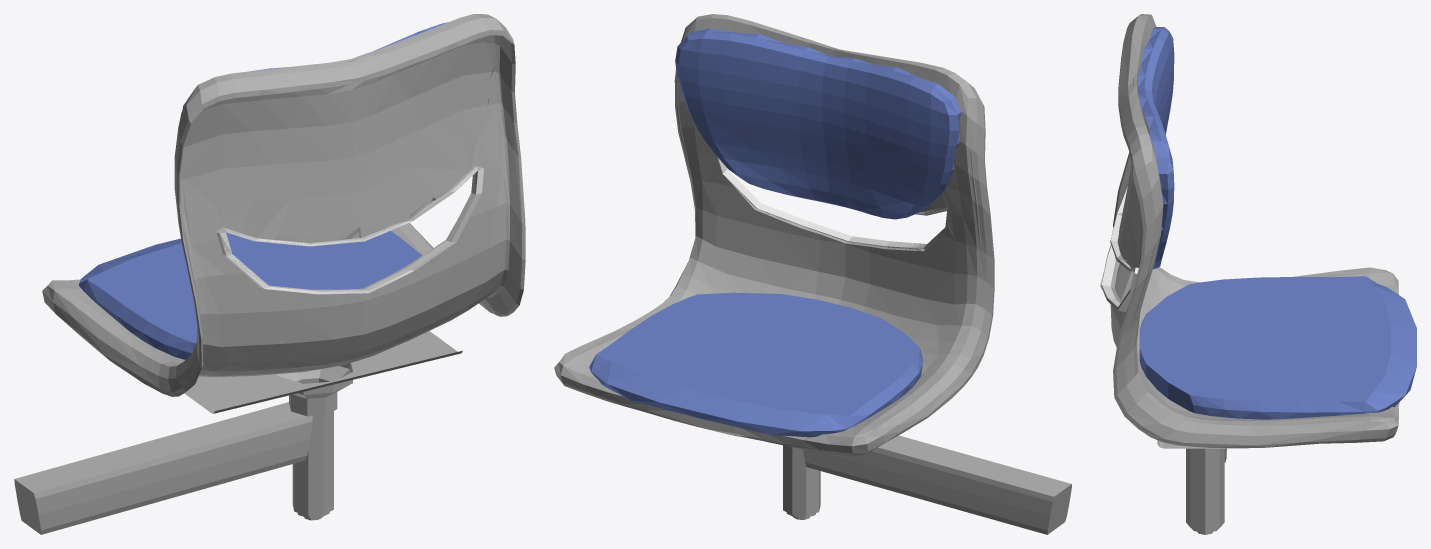
File: Bolin127ChairRight.fbx
3 views of the same model, side by side, from view 1: azimuth 30°, elevation 25°; view 2: azimuth 150°, elevation 25°; view 3: azimuth 270°, elevation 25° (orthographic). The views are drawn at different scales.
Visible parts, largest first — view 1: Chair, Left_Handle, Lower_Cushion, Bottom_Pole, Hole_Extrusion; view 2: Chair, Upper_Cushion, Lower_Cushion, Left_Handle, Bottom_Pole, Hole_Extrusion; view 3: Lower_Cushion, Chair, Upper_Cushion, Bottom_Pole, Hole_Extrusion.
Boxes of the visible parts, box(x1,y1,x2,y2) form: Chair: box(42, 14, 525, 396); Left_Handle: box(14, 402, 312, 534); Lower_Cushion: box(79, 230, 421, 359); Bottom_Pole: box(184, 331, 462, 520); Hole_Extrusion: box(216, 165, 483, 294); Chair: box(554, 14, 994, 456); Upper_Cushion: box(675, 28, 961, 219); Lower_Cushion: box(589, 292, 922, 437); Left_Handle: box(803, 435, 1071, 534); Bottom_Pole: box(783, 445, 820, 519); Hole_Extrusion: box(717, 157, 947, 249); Lower_Cushion: box(1139, 276, 1416, 419); Chair: box(1100, 14, 1399, 447); Upper_Cushion: box(1137, 27, 1174, 269); Bottom_Pole: box(1157, 440, 1248, 534); Hole_Extrusion: box(1101, 183, 1138, 311).
Bounding box in the file's own units: 3.84 × 3.92 × 2.46.
